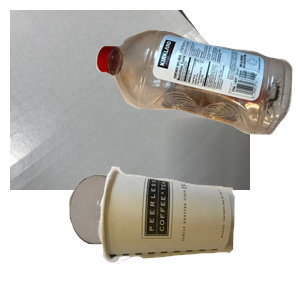cardboard: (10, 10, 250, 190)
glass: (67, 172, 229, 300)
plastic: (93, 27, 300, 154)
trash: (95, 164, 300, 300)
